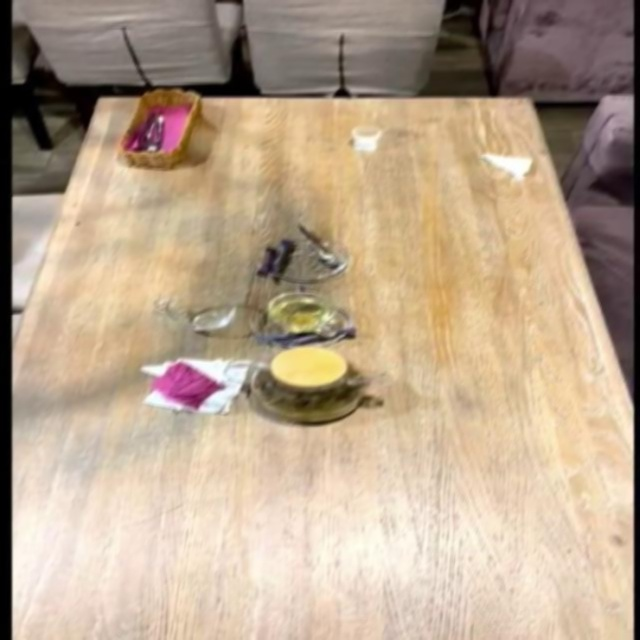tea: (250, 345, 372, 424)
